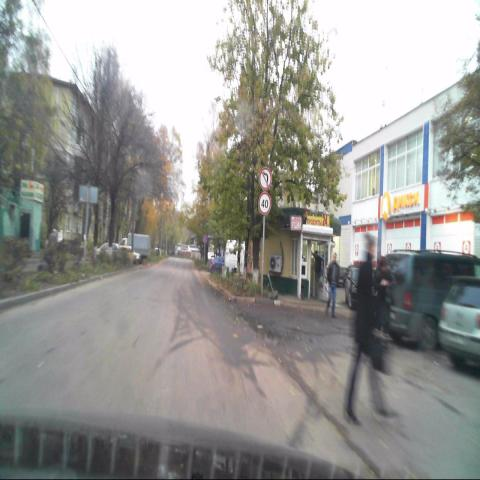3_18_2: (258, 167, 272, 191)
3_24: (258, 193, 271, 215)
